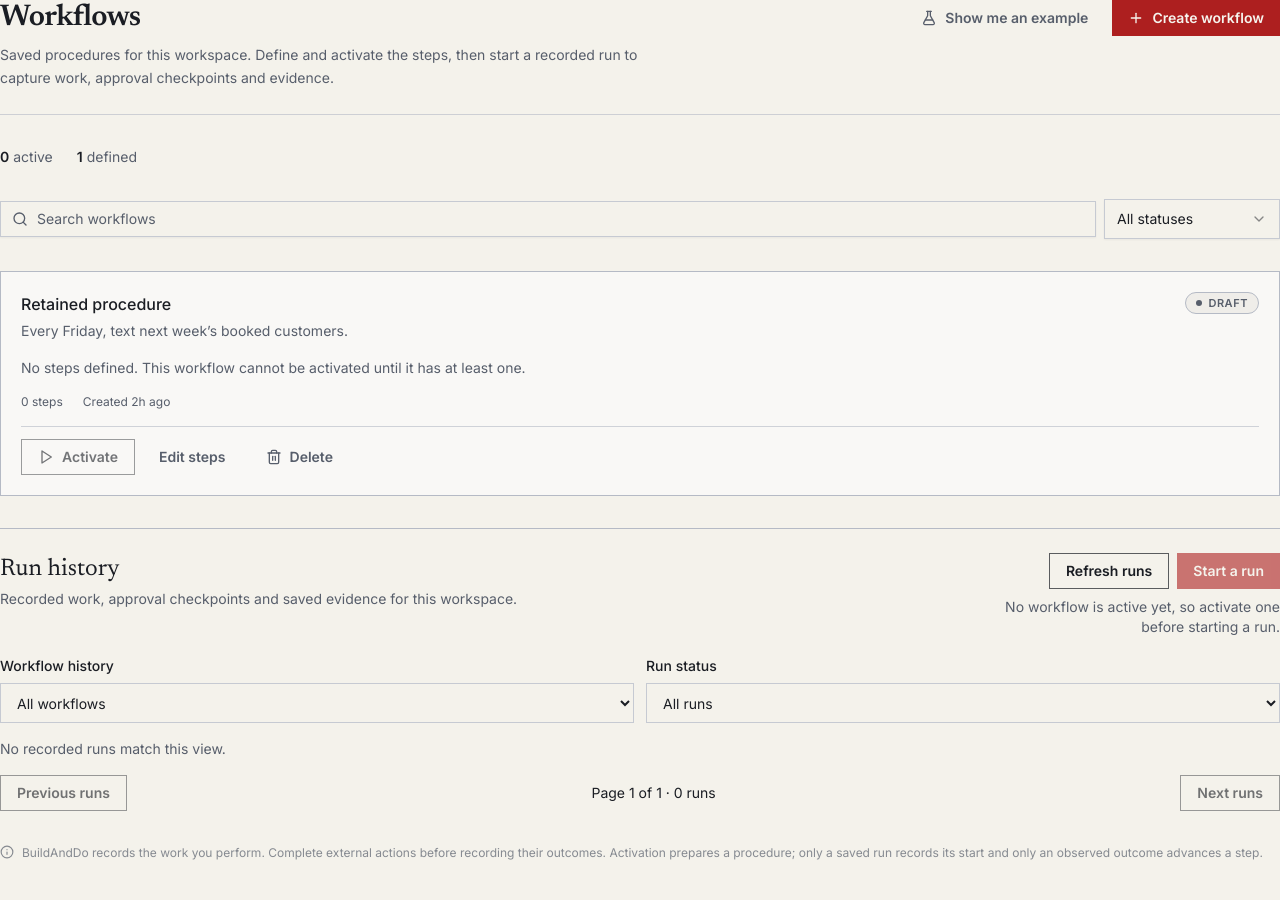
it: WorkflowsPage › asks before deleting a workflow and preserves the definition when history blocks deletion
The width and height of the screenshot is (1280, 900).
Click the button "Delete".
click(299, 457)  # box [250,439,349,475]
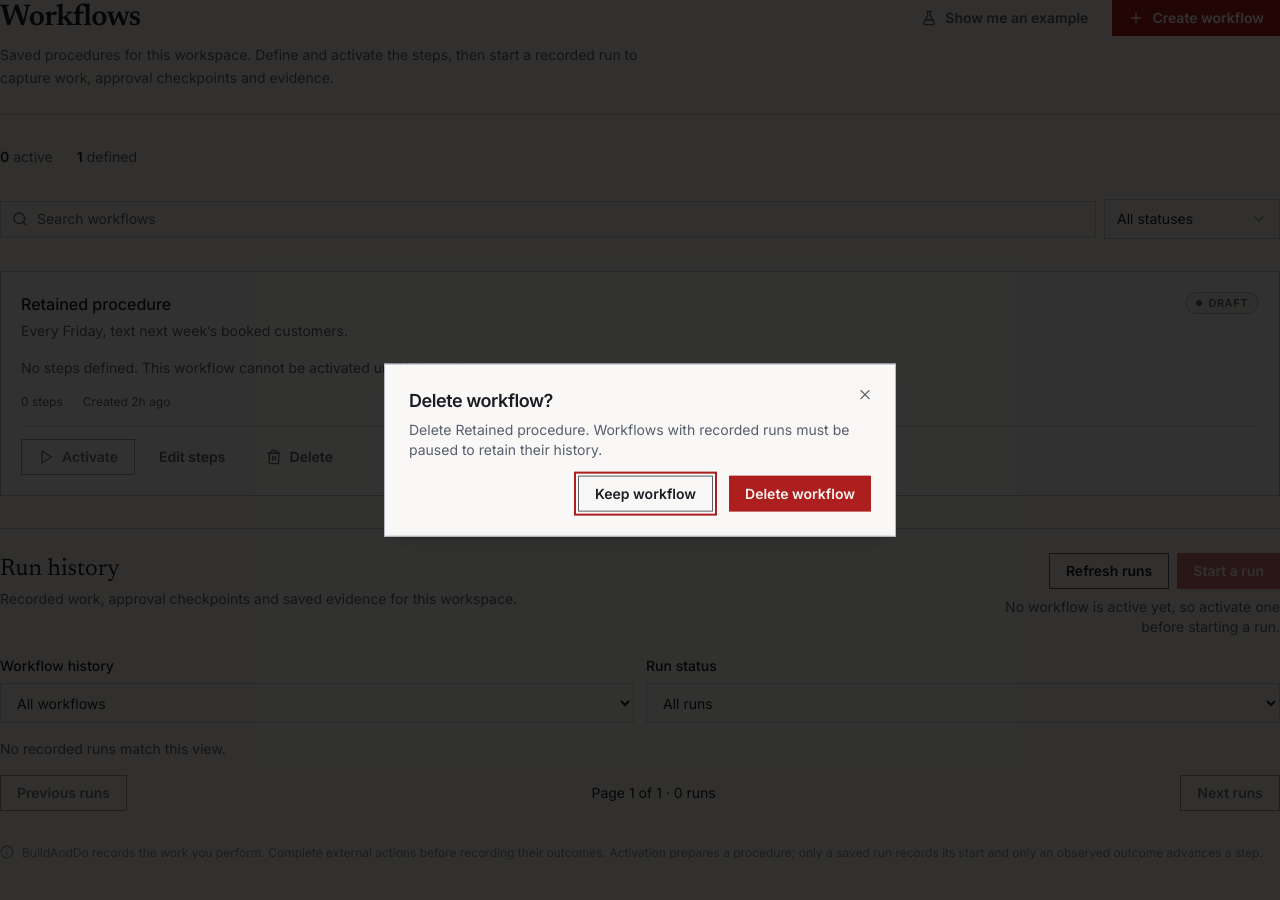
Click the button "Delete workflow".
click(800, 493)  # box [729,475,871,511]
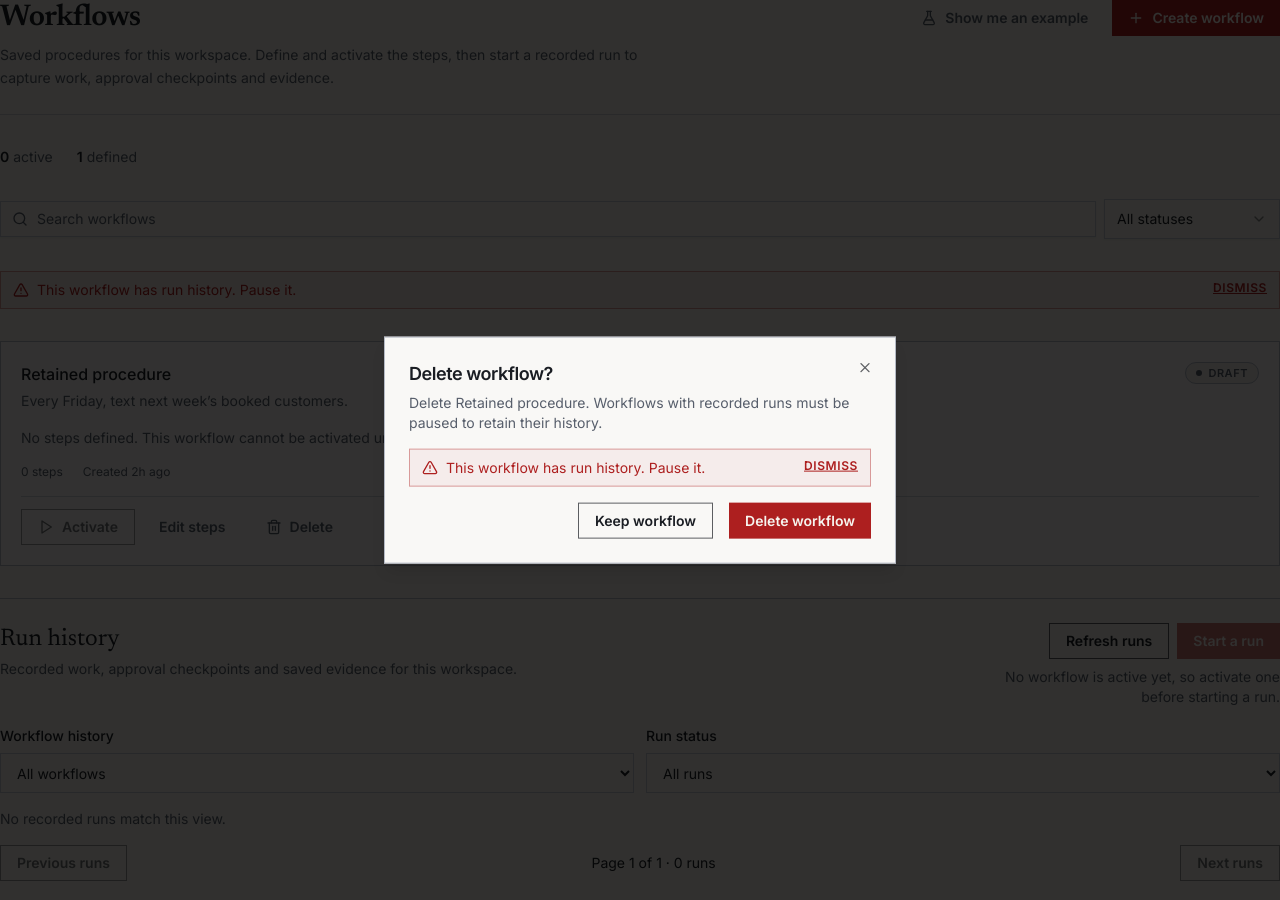
Expected: the message shows "run history", [446,458,705,475]
Press Escape
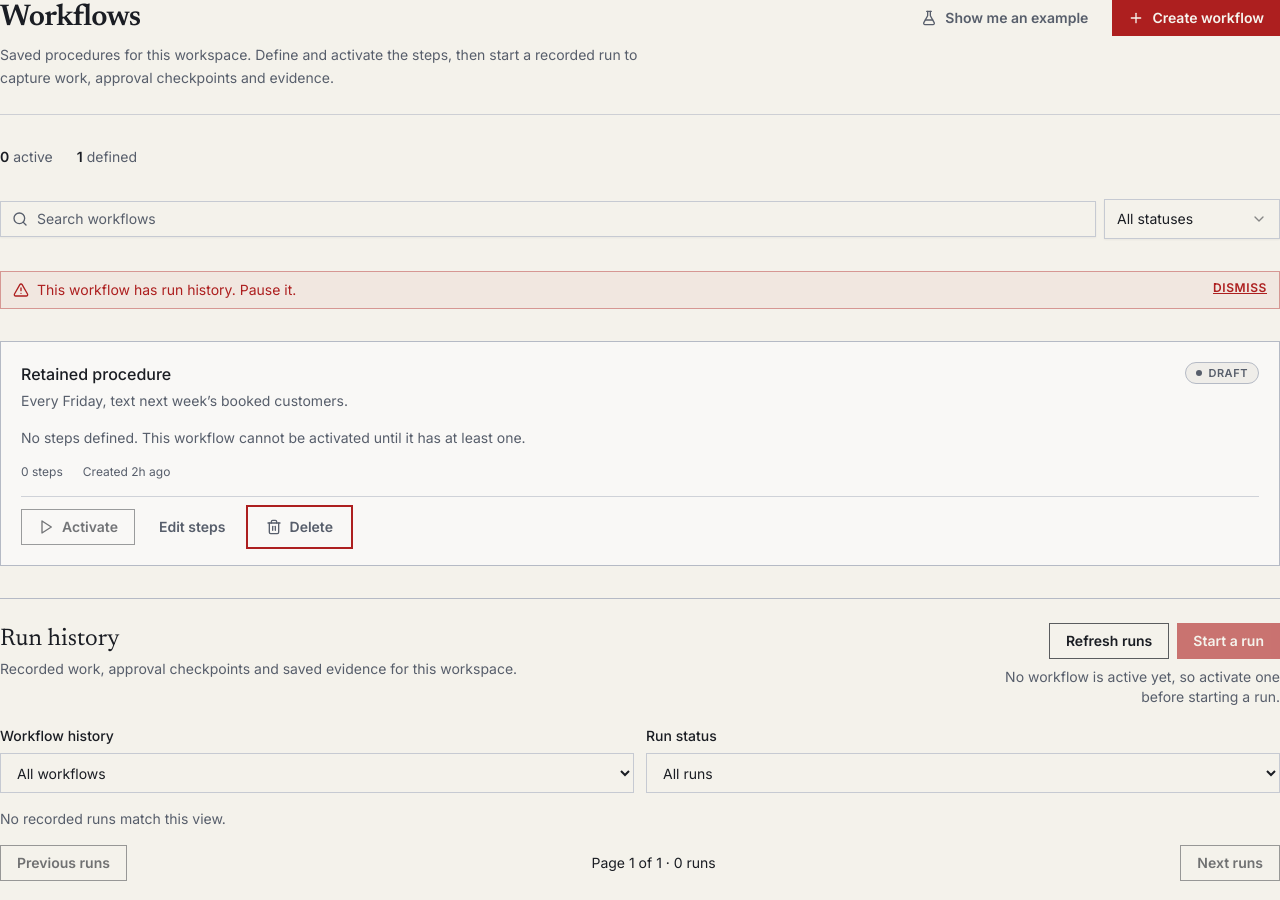
Expected: the text "Retained procedure" is shown, [21,364,171,384]
Expected: the dialog is gone
